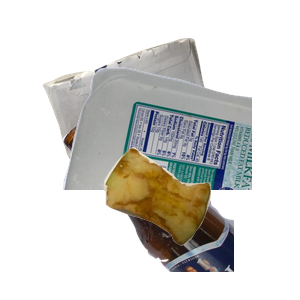glass: (60, 120, 300, 300)
paper: (40, 35, 249, 187)
plastic: (60, 65, 300, 245)
trash: (101, 145, 300, 300)
